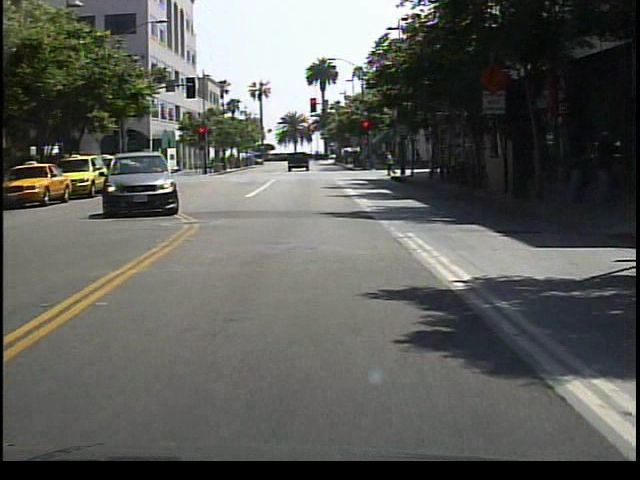person: (412, 144, 427, 175), (386, 150, 401, 177)
